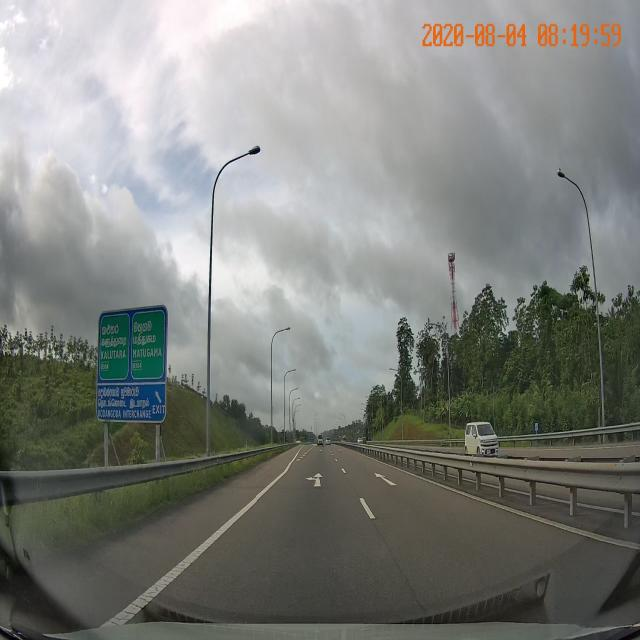forward_lft: (257, 463, 365, 501)
